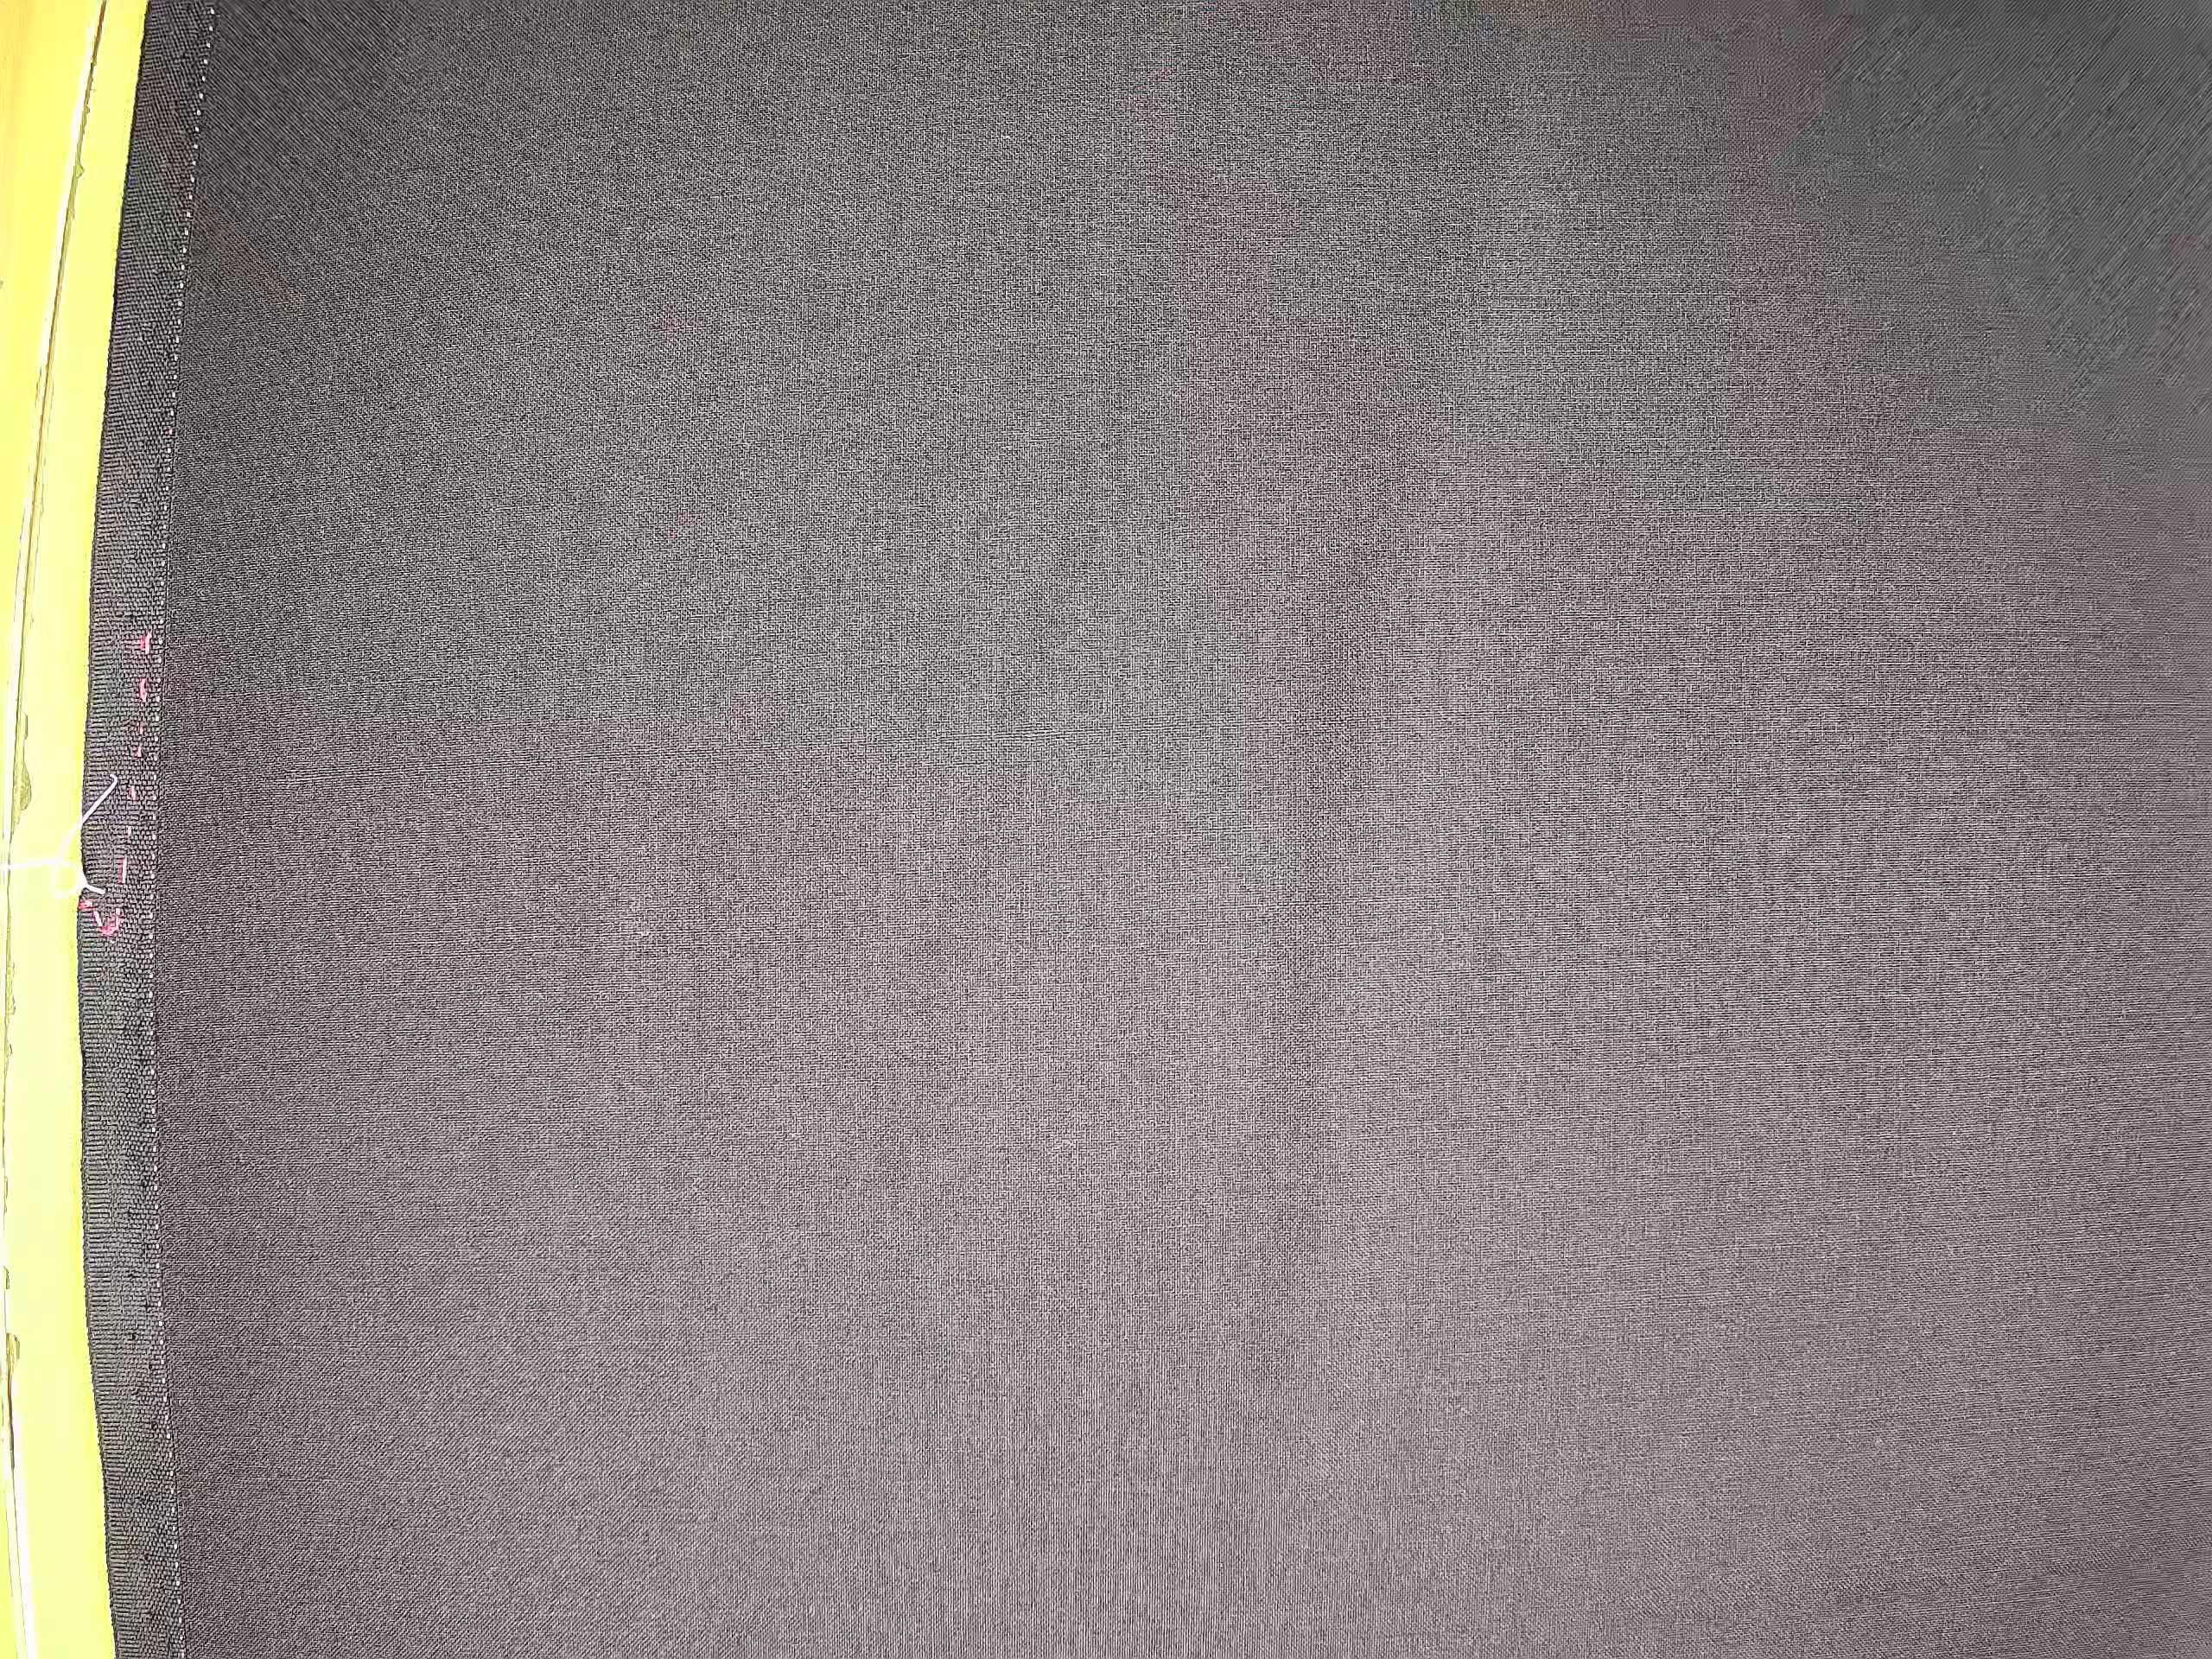others: (1360, 249, 2027, 338)
